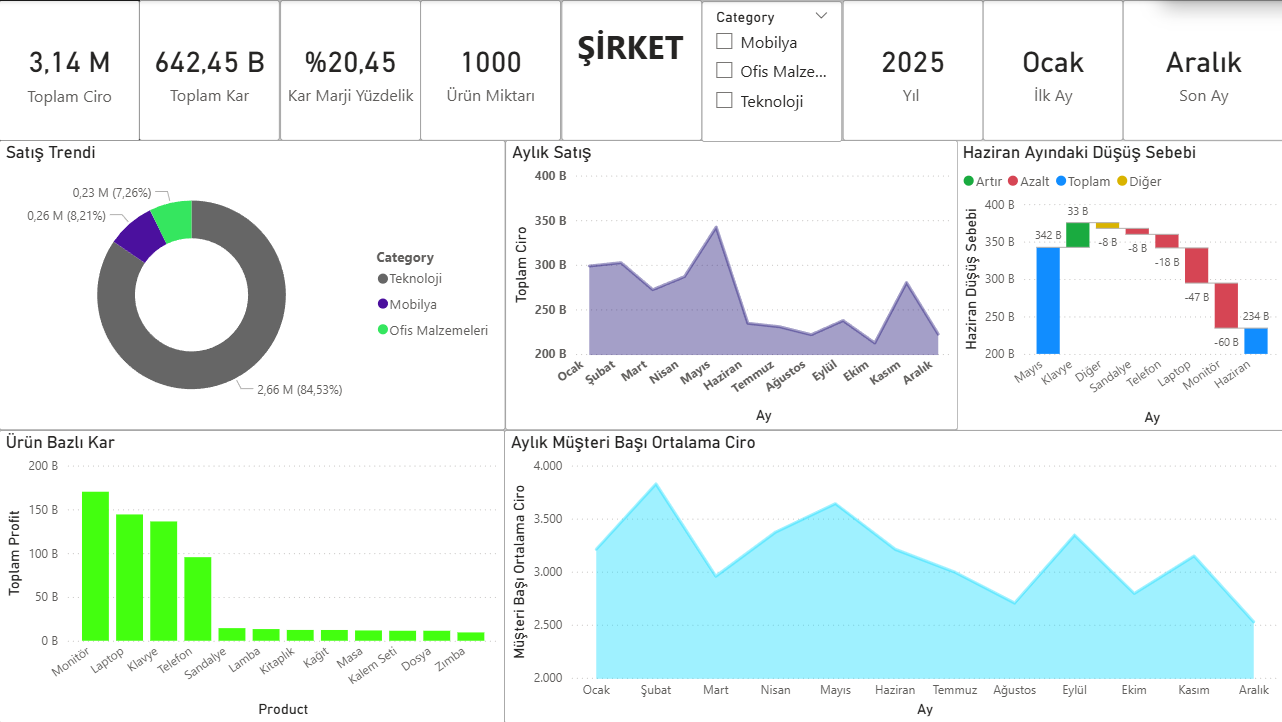

This screenshot's page, from the dashboard's own definition file:
{"tool":"powerbi","page":{"name":"1. sayfa","canvas":[1280,720],"ordinal":0},"visuals":[{"type":"card","fields":{"Values":["Sum(Sales_Performance_Data.Sales_Amount)"]},"box":[0,0,140,140.6],"z":0},{"type":"card","fields":{"Values":["Sum(Sales_Performance_Data.Profit)"]},"box":[139.8,0,140,140],"z":1000},{"type":"card","fields":{"Values":["Sales_Performance_Data.Kar_Marji_Yuzde"]},"box":[279.4,0,139.7,139.7],"z":2000},{"type":"stackedAreaChart","title":"Aylık Satış","fields":{"Category":["Sales_Performance_Data.Date.Varyasyon.Tarih Hiyerarşisi.Ay"],"Y":["Sum(Sales_Performance_Data.Sales_Amount)"]},"box":[503.8,139.3,450.3,288.6],"z":3000},{"type":"donutChart","title":"Satış Trendi","fields":{"Y":["Sum(Sales_Performance_Data.Sales_Amount)"],"Category":["Sales_Performance_Data.Category"]},"box":[0,139.3,503.8,288.6],"z":4000},{"type":"clusteredColumnChart","title":"Ürün Bazlı Kar","fields":{"Category":["Sales_Performance_Data.Product"],"Y":["Sum(Sales_Performance_Data.Profit)"]},"box":[0,427.9,503.8,292.3],"z":5000},{"type":"slicer","fields":{"Values":["Sales_Performance_Data.Category"]},"box":[699.5,1.4,140,140],"z":6000},{"type":"textbox","box":[559.7,0,140,140],"z":6001},{"type":"card","fields":{"Values":["CountNonNull(Sales_Performance_Data.Quantity)"]},"box":[419.1,0,139.7,139.7],"z":6002},{"type":"card","fields":{"Values":["Median(Sales_Performance_Data.Date.Varyasyon.Tarih Hiyerarşisi.Yıl)"]},"box":[839.3,0,140,140],"z":6003},{"type":"card","fields":{"Values":["Min(Sales_Performance_Data.Date.Varyasyon.Tarih Hiyerarşisi.Ay)"]},"box":[979.1,0,140,140],"z":6004},{"type":"card","fields":{"Values":["Max(Sales_Performance_Data.Date.Varyasyon.Tarih Hiyerarşisi.Ay)"]},"box":[1118.9,0,161.1,139.7],"z":6005},{"type":"stackedAreaChart","title":"Aylık Müşteri Başı Ortalama Ciro","fields":{"Category":["Sales_Performance_Data.Date.Varyasyon.Tarih Hiyerarşisi.Ay"],"Y":["Sales_Performance_Data.Müşteri Başı Ortalama Ciro"]},"box":[503.2,427.6,776.8,292.2],"z":6006},{"type":"waterfallChart","title":"Haziran Ayındaki Düşüş Sebebi","fields":{"Category":["Sales_Performance_Data.Date.Varyasyon.Tarih Hiyerarşisi.Ay"],"Breakdown":["Sales_Performance_Data (2).Product"],"Y":["Sum(Sales_Performance_Data.Sales_Amount)"]},"box":[954.1,140.6,325.9,287.4],"z":6007}]}

Visuals, with their boxes in screenshot pixels (x1, y1, x2, y2), scaled from the page's 1280x720 canvas onto the 1282x722 screenshot:
card - Sum(Sales_Performance_Data.Sales_Amount): 0, 0, 140, 141
card - Sum(Sales_Performance_Data.Profit): 140, 0, 280, 140
card - Sales_Performance_Data.Kar_Marji_Yuzde: 280, 0, 420, 140
"Aylık Satış" stackedAreaChart: 505, 140, 956, 429
"Satış Trendi" donutChart: 0, 140, 505, 429
"Ürün Bazlı Kar" clusteredColumnChart: 0, 429, 505, 721
slicer - Sales_Performance_Data.Category: 701, 1, 841, 142
textbox: 561, 0, 701, 140
card - CountNonNull(Sales_Performance_Data.Quantity): 420, 0, 560, 140
card - Median(Sales_Performance_Data.Date.Varyasyon.Tarih Hiyerarşisi.Yıl): 841, 0, 981, 140
card - Min(Sales_Performance_Data.Date.Varyasyon.Tarih Hiyerarşisi.Ay): 981, 0, 1121, 140
card - Max(Sales_Performance_Data.Date.Varyasyon.Tarih Hiyerarşisi.Ay): 1121, 0, 1281, 140
"Aylık Müşteri Başı Ortalama Ciro" stackedAreaChart: 504, 429, 1281, 721
"Haziran Ayındaki Düşüş Sebebi" waterfallChart: 956, 141, 1281, 429
